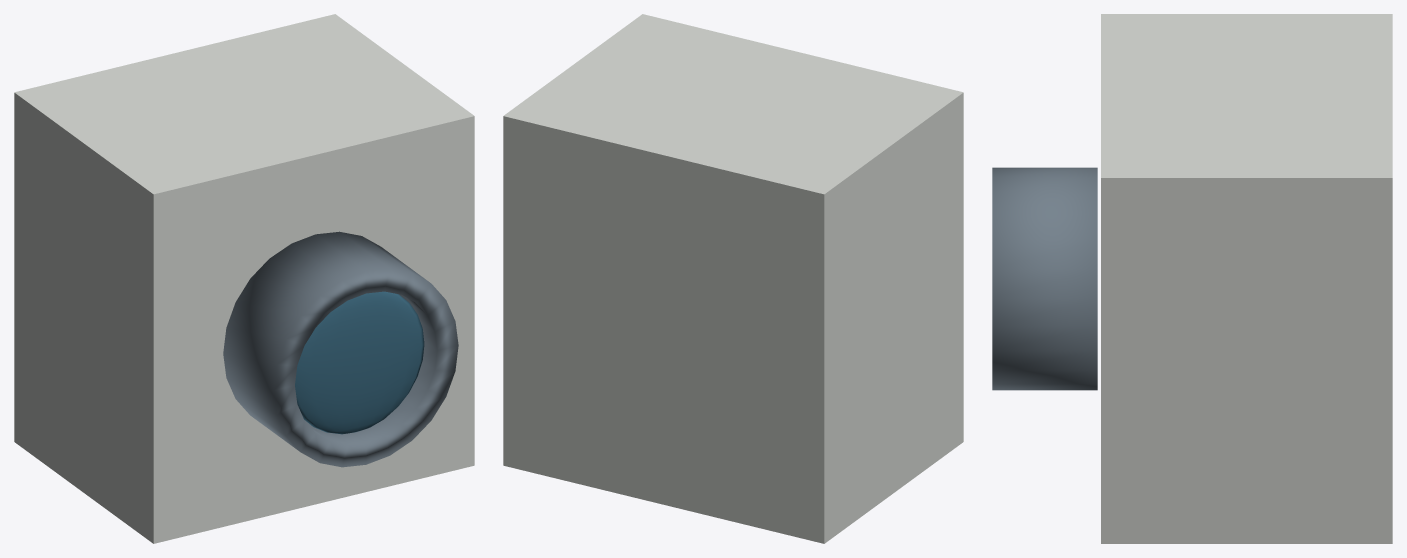
The model's file is perseverance_turret.sherloc.glb.
3 renders of one model, left to right at view 1: azimuth 30°, elevation 25°; view 2: azimuth 150°, elevation 25°; view 3: azimuth 270°, elevation 25°, orthographic. The views are drawn at different scales.
Visible parts, largest first — view 1: perseverance_turret.sherloc.mesh_Pale_thermal_blanket, perseverance_turret.sherloc.aperture.mesh_Machined_steel, perseverance_turret.sherloc.aperture.lens.mesh_Coated_optica; view 2: perseverance_turret.sherloc.mesh_Pale_thermal_blanket; view 3: perseverance_turret.sherloc.mesh_Pale_thermal_blanket, perseverance_turret.sherloc.aperture.mesh_Machined_steel.
Part boxes in pixels (x1,y1,x2,y2): perseverance_turret.sherloc.mesh_Pale_thermal_blanket: (14, 14, 474, 543); perseverance_turret.sherloc.aperture.mesh_Machined_steel: (223, 231, 458, 467); perseverance_turret.sherloc.aperture.lens.mesh_Coated_optica: (295, 291, 424, 434); perseverance_turret.sherloc.mesh_Pale_thermal_blanket: (503, 14, 963, 543); perseverance_turret.sherloc.mesh_Pale_thermal_blanket: (1101, 14, 1392, 543); perseverance_turret.sherloc.aperture.mesh_Machined_steel: (992, 167, 1097, 390).
Bounding box in the file's own units: 0.125 × 0.13 × 0.129.
